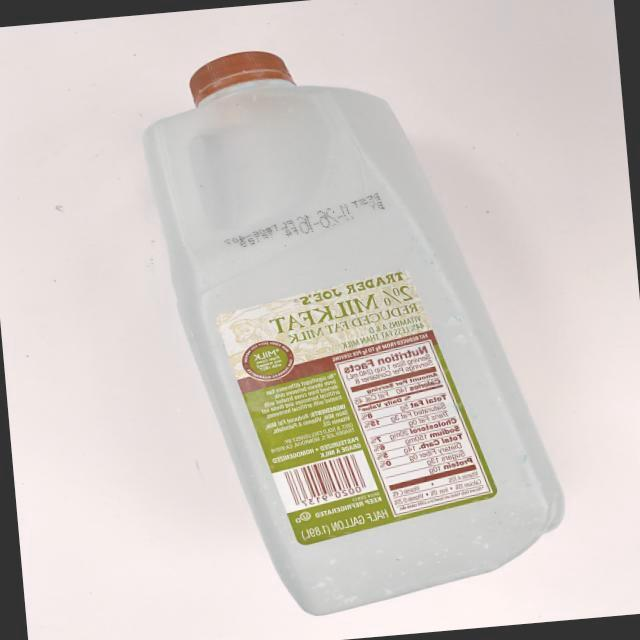plastic: (18, 0, 583, 640)
